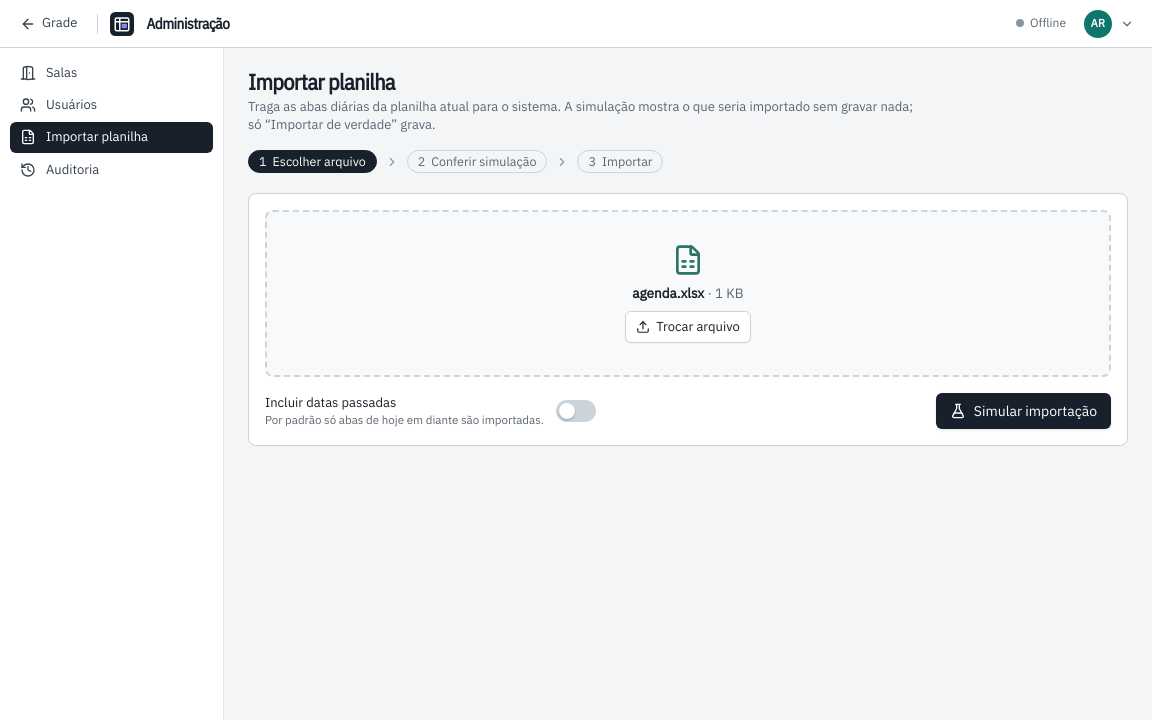
Test: administração › importação: simula (dry-run), confirma e mostra o relatório final
Earlier steps of the test are not shown.
Expected: the text "agenda.xlsx" is shown, [632,284,704,302]
What coordinates should you click on to do the following:
click the button "Simular importação"
I would click on:
 (1023, 411)
Its box is [936,393,1111,429].
(page scrolled)
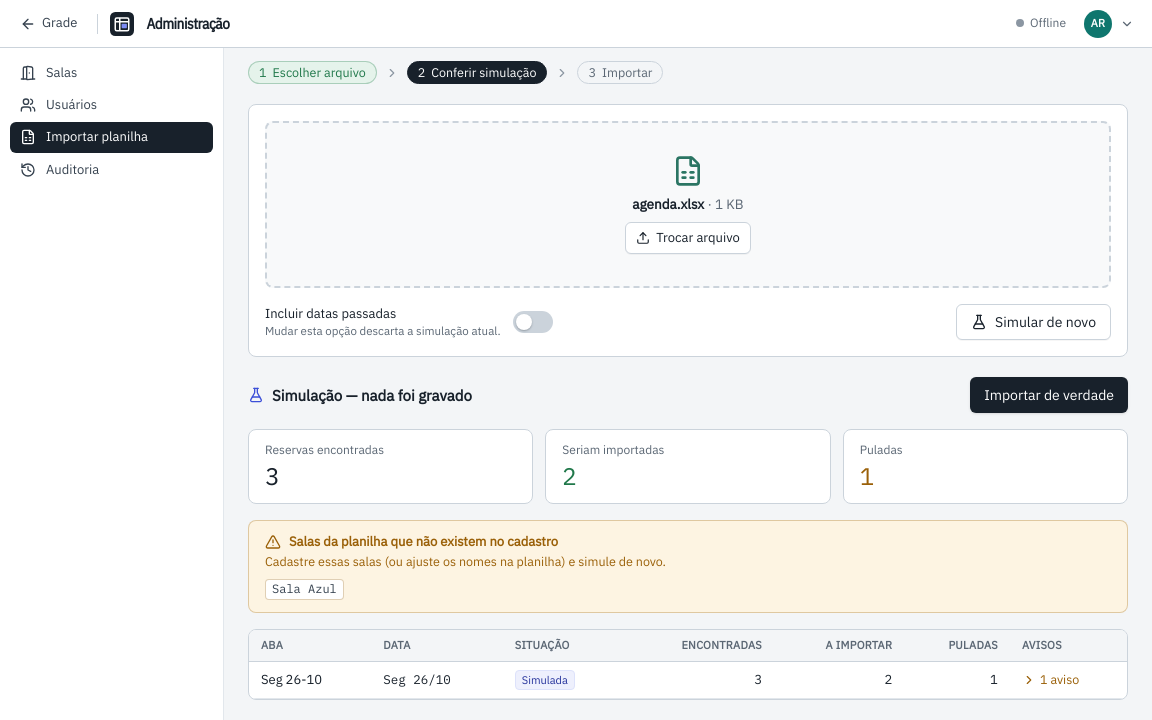
Expected: the heading "Simulação — nada foi gravado" is shown, [248,385,472,406]
Expected: the text "Sala Azul" is shown, [265,579,344,600]
Expected: the text "Simulada" is shown, [522,672,568,688]
What coordinates should you click on to do the following:
click the button "1 aviso"
I would click on:
 (1051, 680)
Its box is [1022,671,1079,689].
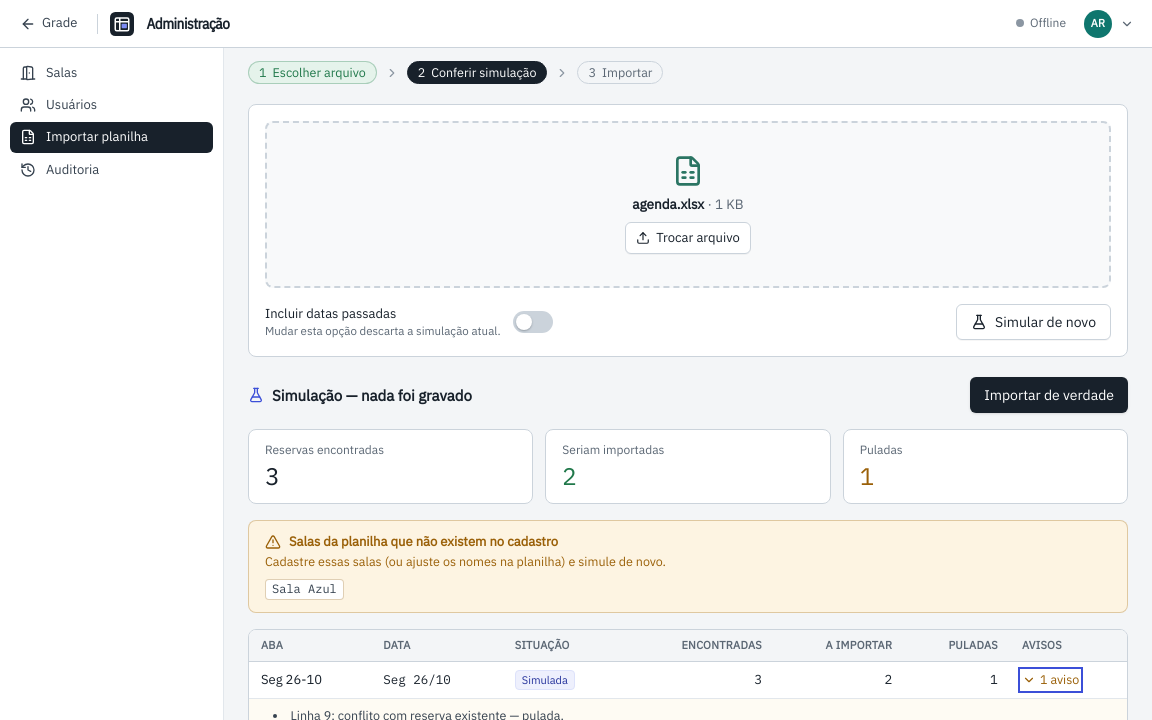
Expected: the list item "Linha 9: conflito com reserva existente — pulada." is shown, [290,707,564,719]
What coordinates should you click on to do the following:
click the button "Importar de verdade"
I would click on:
 (1049, 395)
Its box is [970,377,1128,413].
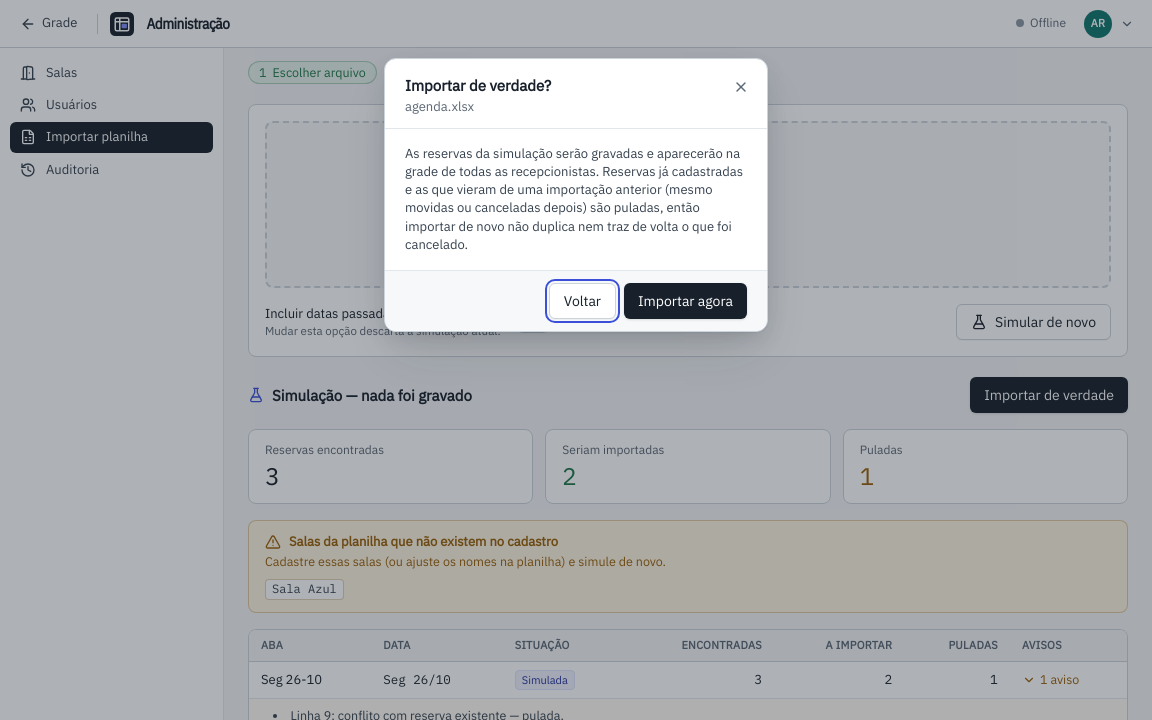
What coordinates should you click on to do the following:
click the button "Importar agora"
I would click on:
 (686, 301)
Its box is [624,283,747,319].
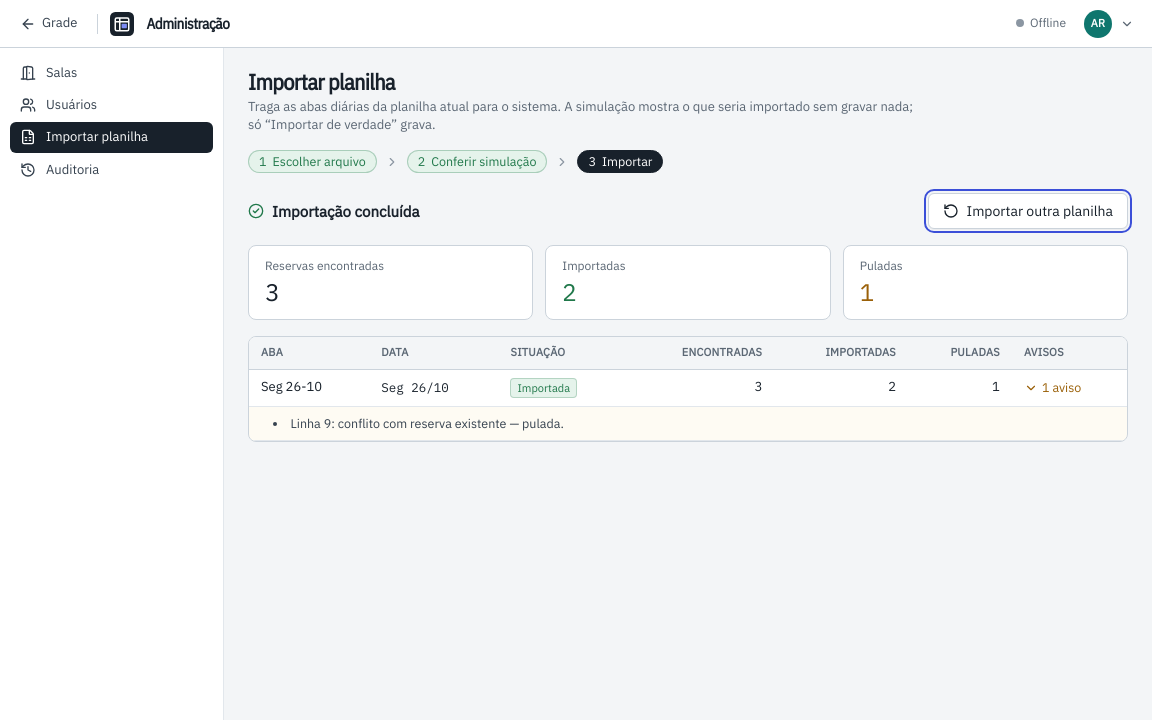
Expected: the heading "Importação concluída" is shown, [248,201,420,222]
Expected: the text "Importada" is shown, [518,380,570,396]
